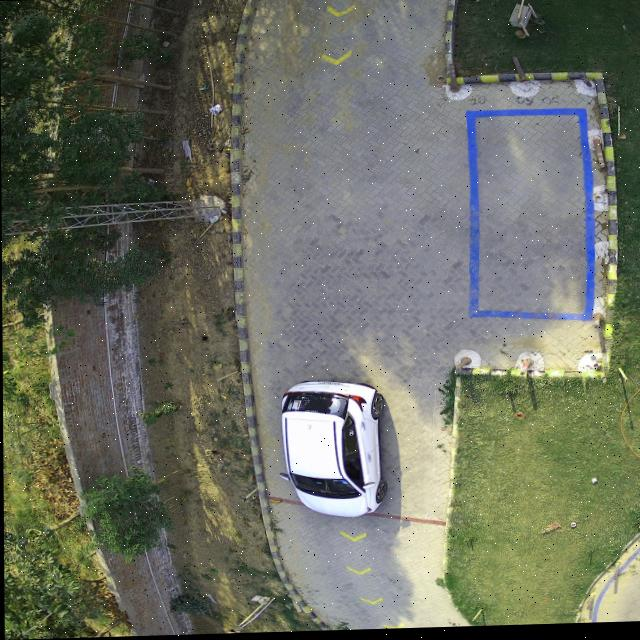car: (281, 381, 387, 519)
